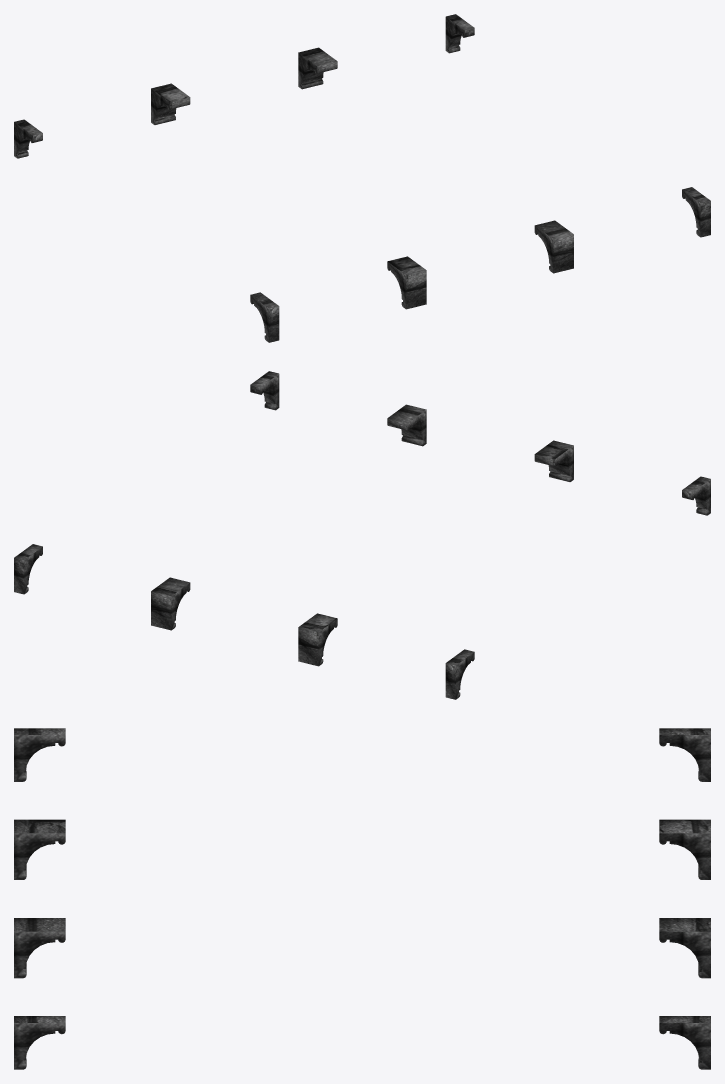
File: stone decorations.glb
3 views of the same model, one above another, from view 1: azimuth 30°, elevation 25°; view 2: azimuth 150°, elevation 25°; view 3: azimuth 270°, elevation 25° (orthographic). The views are drawn at different scales.
Visible parts, largest first — view 1: Brackets, 9 x 9; view 2: Brackets, 9 x 9; view 3: Brackets, 9 x 9.
Part boxes in pixels (left/top/right/bottom): Brackets, 9 x 9: left=14, top=14, right=710, bottom=342; Brackets, 9 x 9: left=14, top=371, right=710, bottom=699; Brackets, 9 x 9: left=14, top=728, right=710, bottom=1069.
Size of the model in its own units: 2.74 by 0.2032 by 2.74.
1 material, 1 textured.
